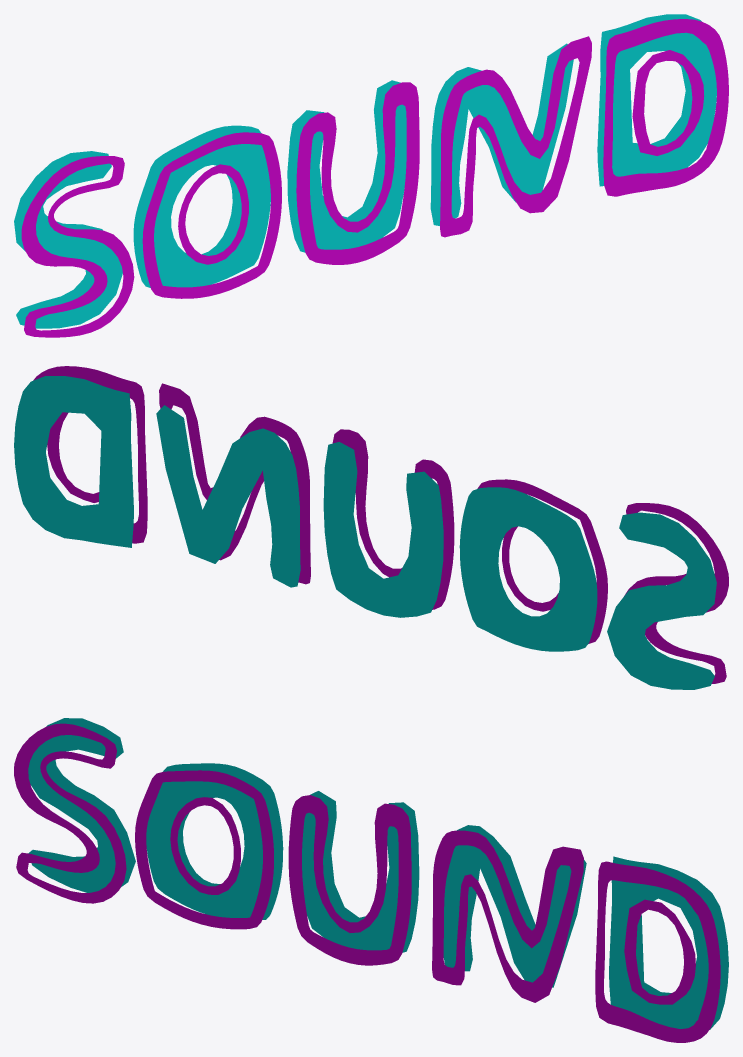
File: mesh_text_sound.fbx
3 views of the same model, one above another, from view 1: azimuth 30°, elevation 25°; view 2: azimuth 150°, elevation 25°; view 3: azimuth 330°, elevation 25° (orthographic).
Parts seen in each view (by area): view 1: mesh_text_sound, mesh_text_sound1; view 2: mesh_text_sound, mesh_text_sound1; view 3: mesh_text_sound1, mesh_text_sound.
Part boxes in pixels (x1,y1,x2,y2): mesh_text_sound: [14, 14, 716, 328]; mesh_text_sound1: [21, 19, 728, 337]; mesh_text_sound: [14, 376, 716, 689]; mesh_text_sound1: [33, 366, 728, 683]; mesh_text_sound1: [14, 723, 720, 1042]; mesh_text_sound: [28, 718, 728, 1029].
Size of the model in its own units: 0.0878 by 0.0209 by 0.00212.
